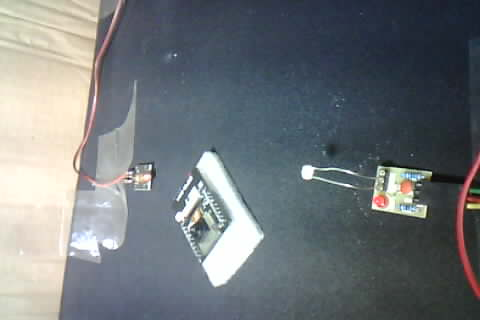esp32: (165, 159, 239, 274)
